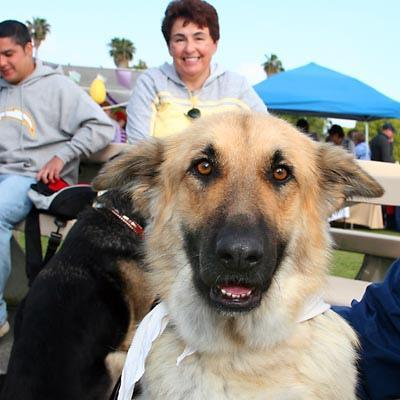German_shepherd: (90, 110, 386, 399)
